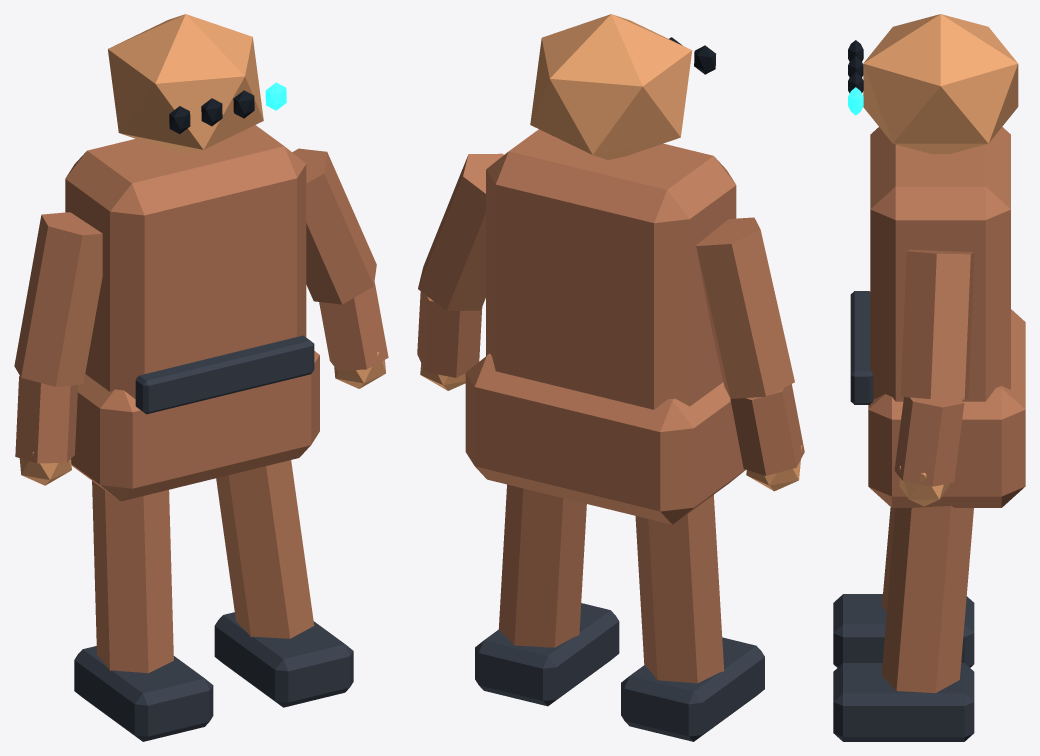
Rendered from npcs_028_seed11.glb.
3 views of the same model, side by side, from view 1: azimuth 30°, elevation 25°; view 2: azimuth 150°, elevation 25°; view 3: azimuth 270°, elevation 25° (orthographic). The views are drawn at different scales.
Parts seen in each view (by area): view 1: npcs_028_seed11; view 2: npcs_028_seed11; view 3: npcs_028_seed11.
Part boxes in pixels (bbox=[...]): npcs_028_seed11: bbox=[14, 14, 388, 741]; npcs_028_seed11: bbox=[417, 14, 804, 741]; npcs_028_seed11: bbox=[833, 14, 1025, 741].
Bounding box in the file's own units: 1.04 × 1.82 × 0.469.
